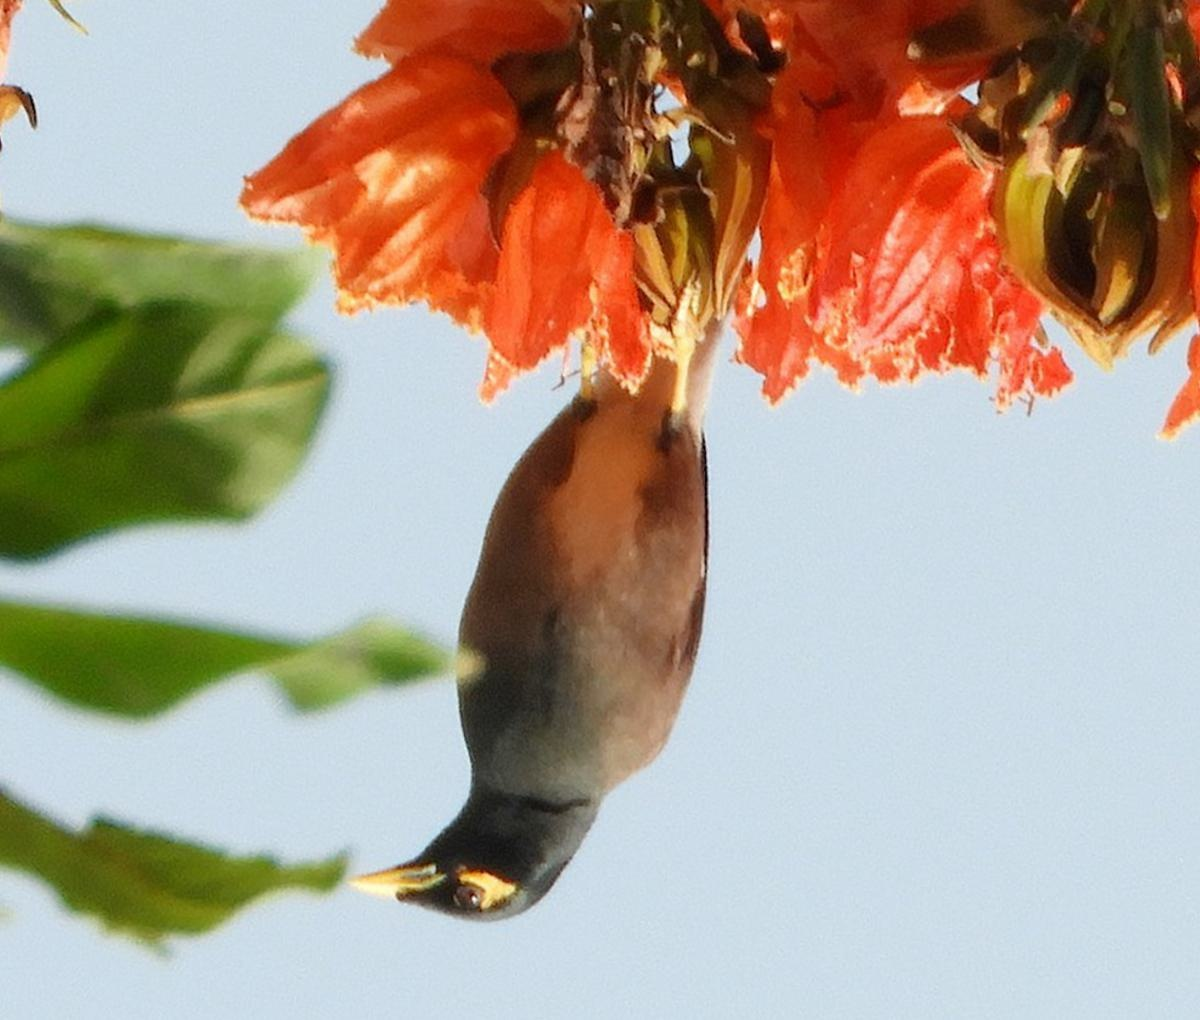myna: (344, 233, 744, 951)
